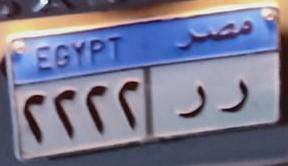2: (114, 75, 150, 142), (24, 80, 48, 157), (52, 84, 83, 142), (82, 79, 112, 130)
ر: (167, 72, 208, 126), (216, 71, 260, 120)
